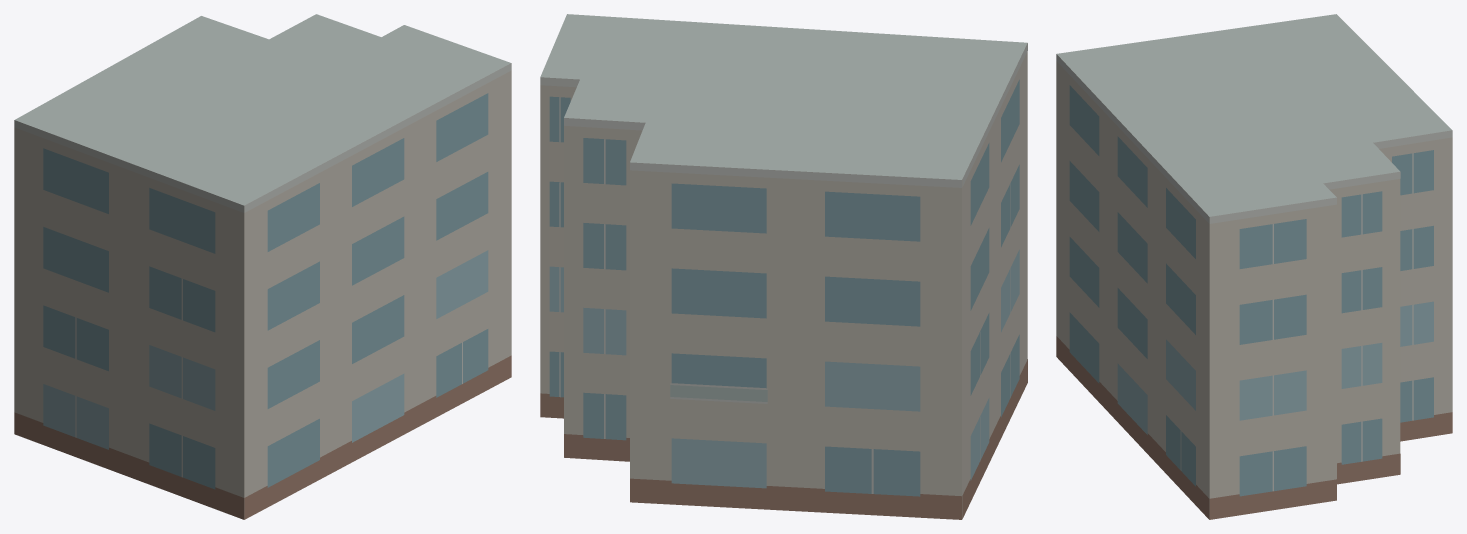
File: survey-upis-32528619.glb
The picture shows the model from 3 angles, left to right: view 1: azimuth 30°, elevation 25°; view 2: azimuth 150°, elevation 25°; view 3: azimuth 270°, elevation 25°; orthographic projection. The views are drawn at different scales.
Parts seen in each view (by area): view 1: survey-upis-32528619.tmp; view 2: survey-upis-32528619.tmp; view 3: survey-upis-32528619.tmp.
Boxes of the visible parts, bbox=[...] form: survey-upis-32528619.tmp: bbox=[14, 14, 511, 519]; survey-upis-32528619.tmp: bbox=[540, 14, 1027, 519]; survey-upis-32528619.tmp: bbox=[1056, 14, 1452, 519].
Bounding box in the file's own units: 14.94 × 10.4 × 12.33.
